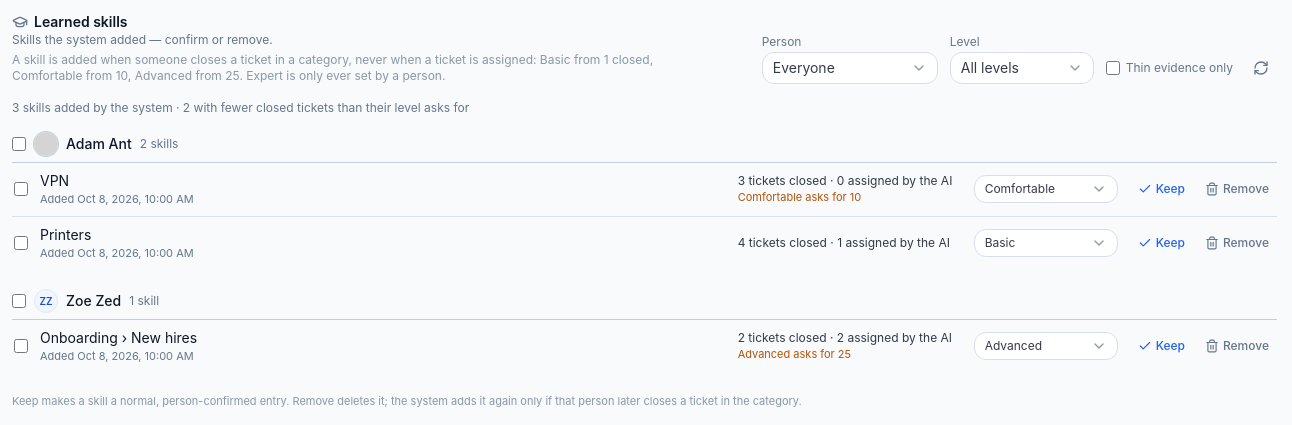
Test: LearnedSkillsTab › filters by person, by level, and to thin evidence only
Click the dropdown named "Filter by person" at (850, 68), box [762,52,938,84]
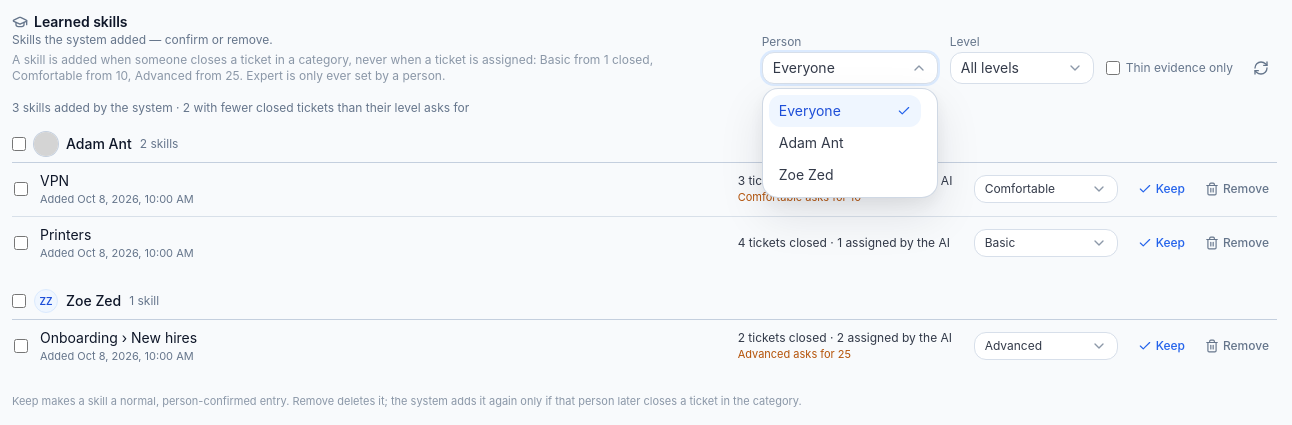
Click the option "Adam Ant" at (811, 142), box [779,134,844,151]
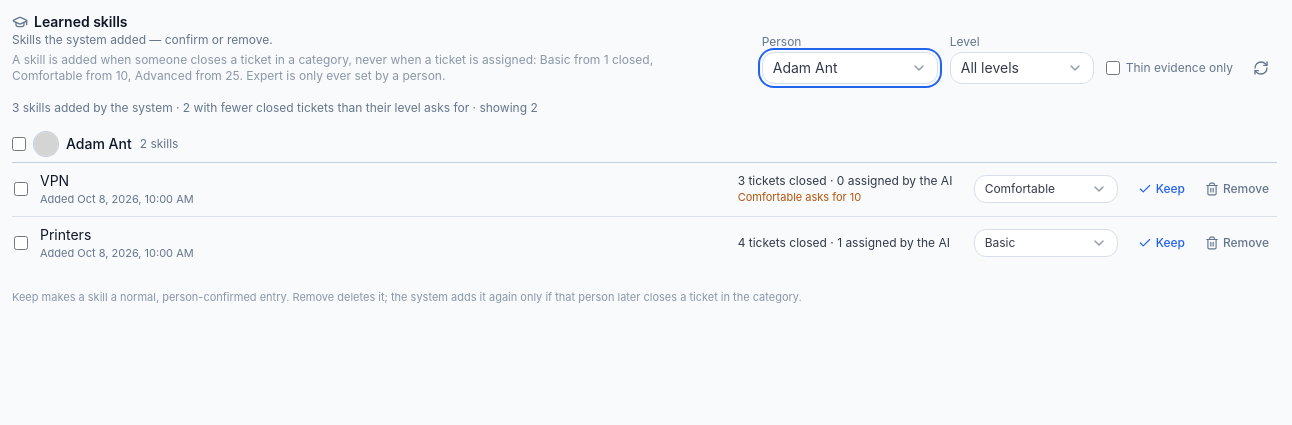
Result: the number of list items with test id "learned-row" is 2 at [12,163,1277,216]; [12,216,1277,269]
Result: the text with test id "learned-summary" shows "showing 2" at [469,100,538,115]
Click the dropdown named "Filter by level" at (1022, 68), box [950,52,1094,84]
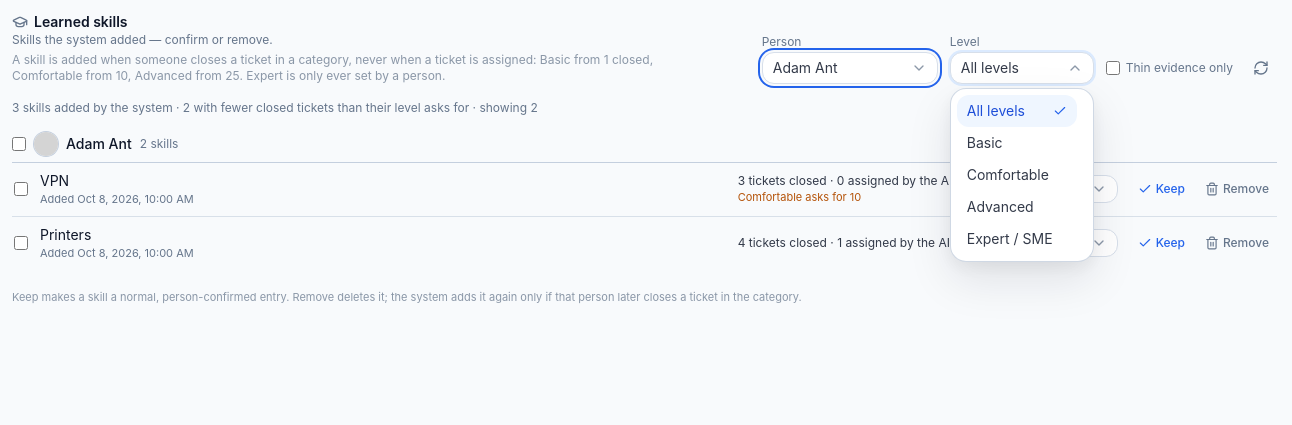
Click the option "Basic" at (985, 142), box [967,134,1002,151]
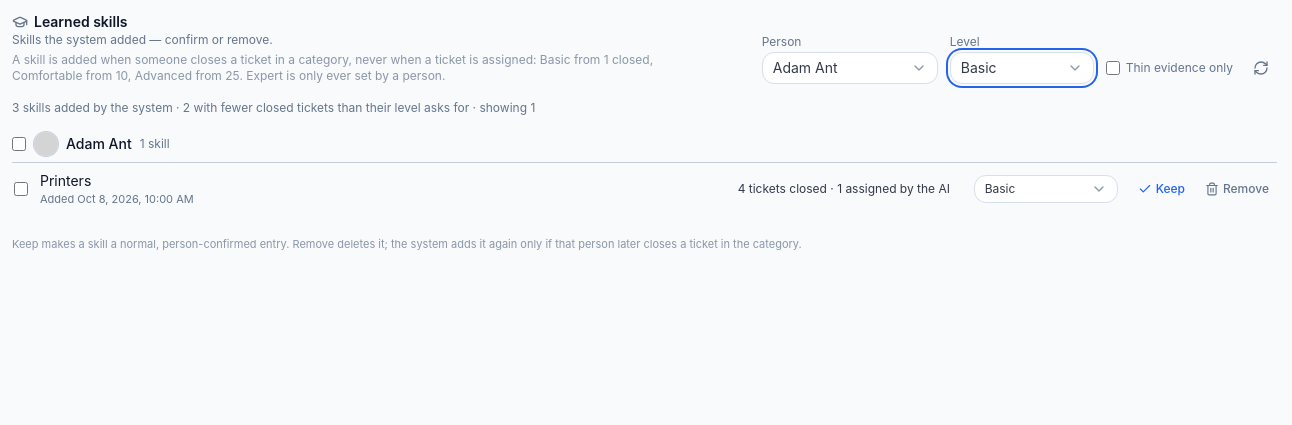
Expected: the list item with test id "learned-row" shows "Printers", [40,172,91,189]
Result: the number of list items with test id "learned-row" is 1 at [12,163,1277,216]
Click the checkbox labelled "Thin evidence only" at (1113, 68), box [1106,61,1120,75]
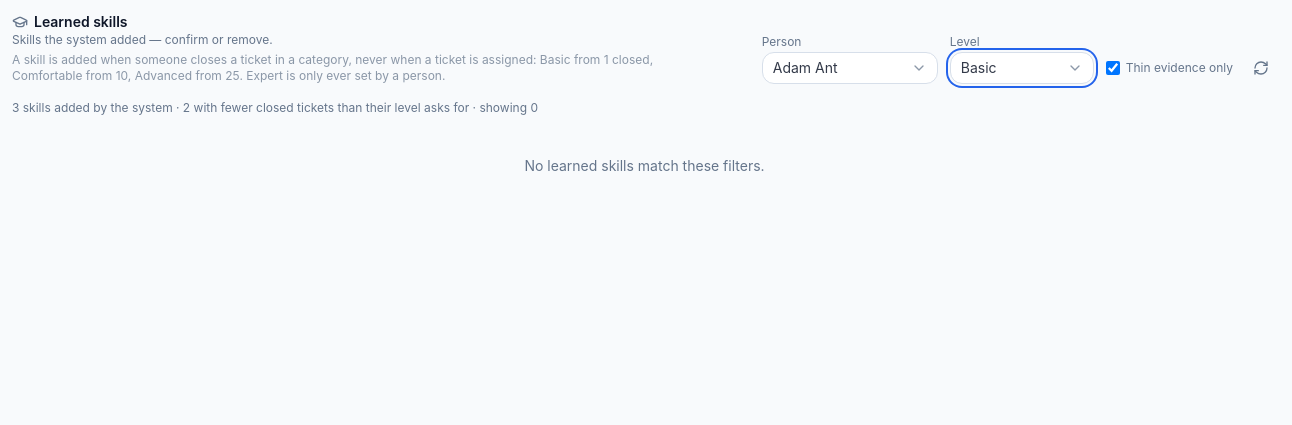
Result: no list items with test id "learned-row" are shown
Result: the text "No learned skills match these filters." is shown at [524,157,765,174]
